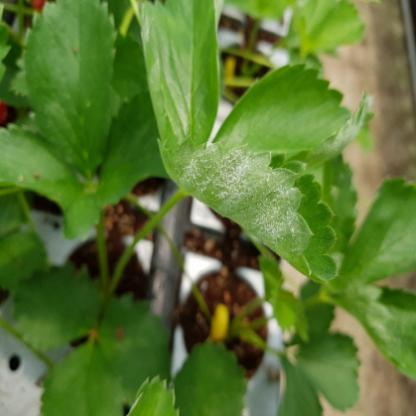Strawberry_Powdery_Mildew_Leaf: (156, 140, 338, 284)
